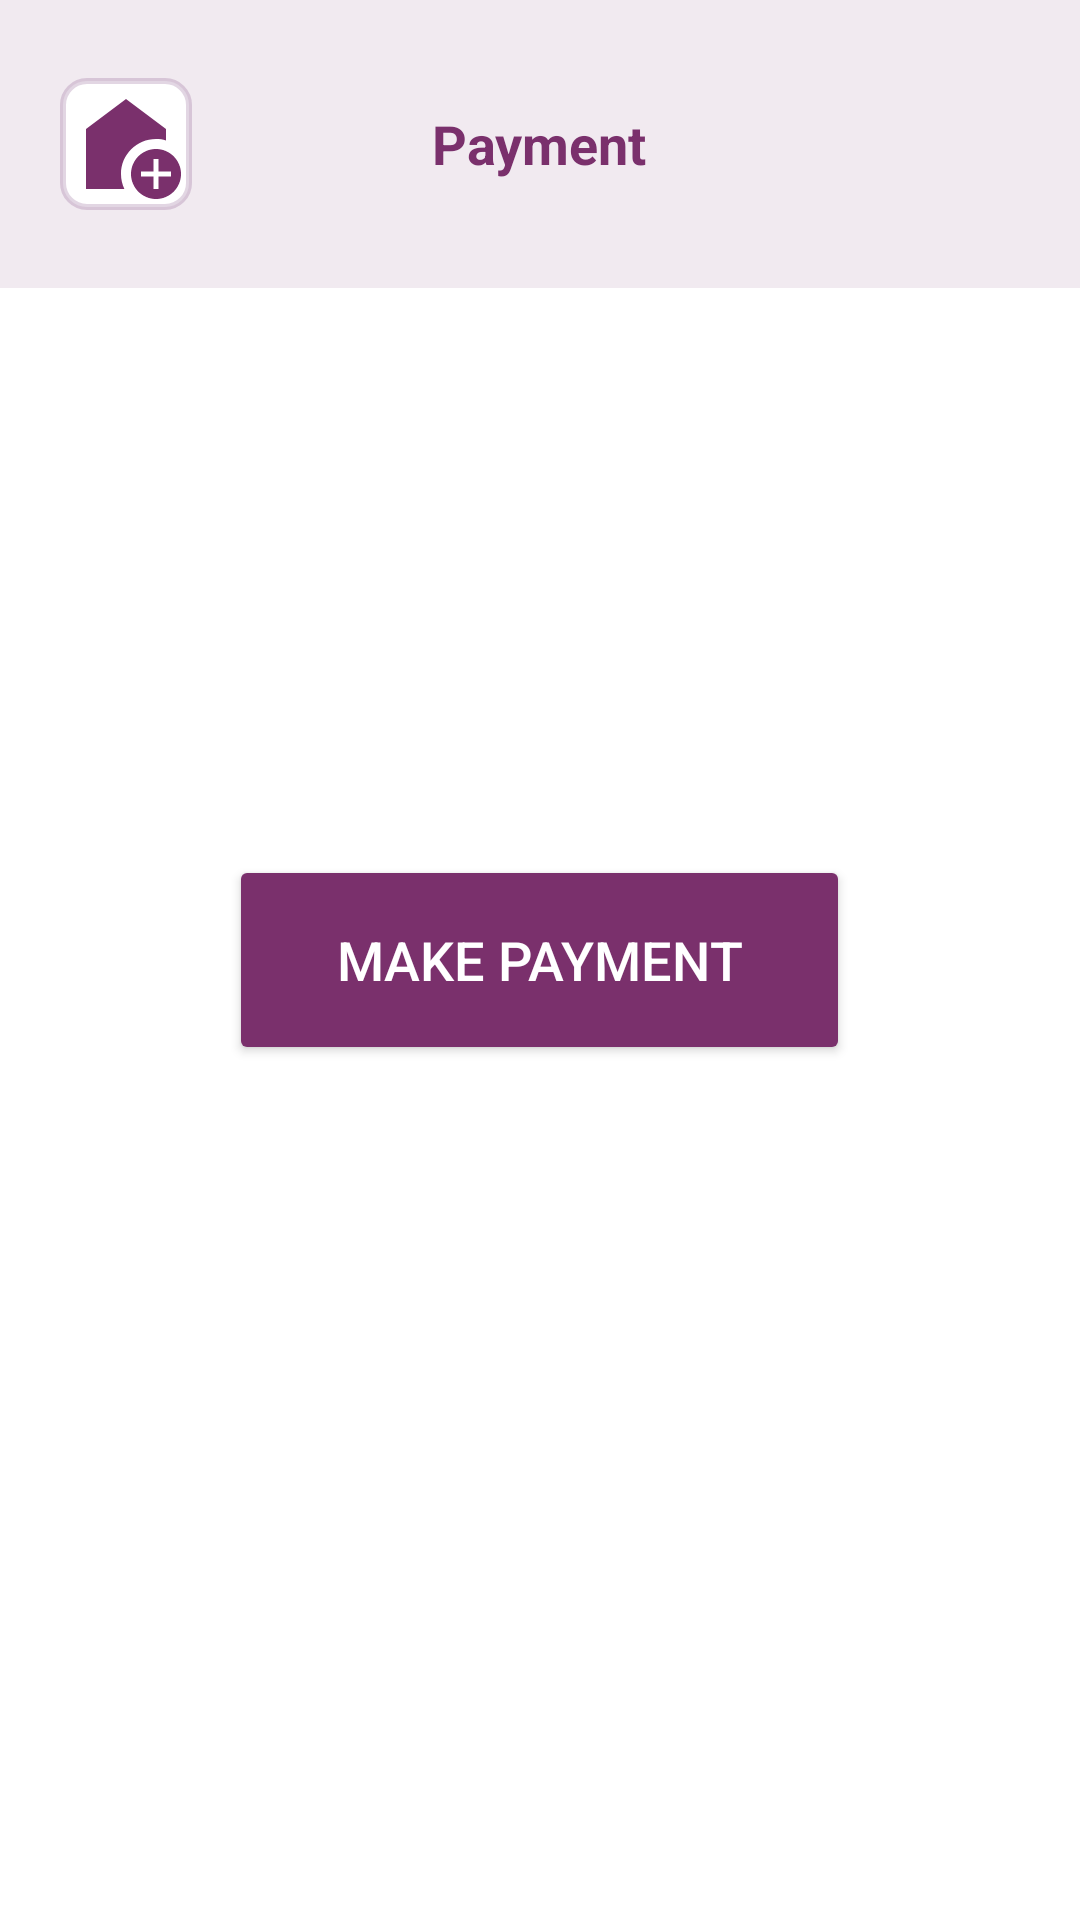

Where to tap for icons on this 1080 × 1920 app screen, as [x,y]:
add home: [126,144]
